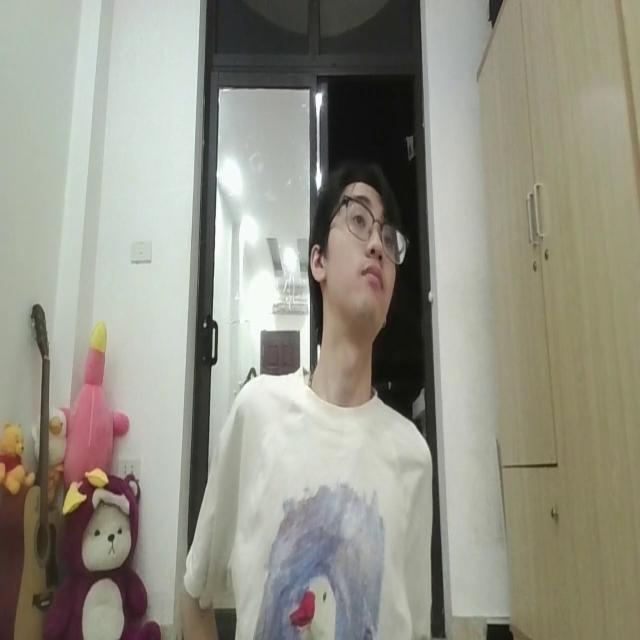student: (168, 150, 433, 640)
